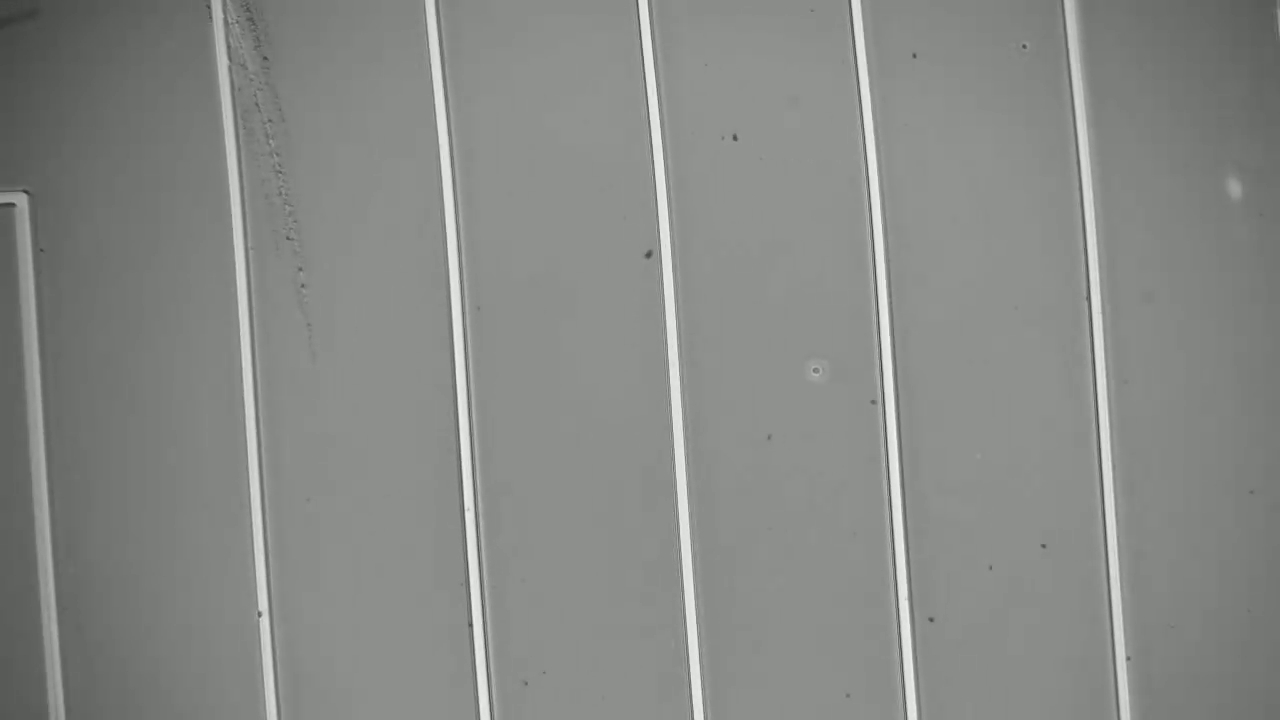scratch: (220, 7, 333, 352)
